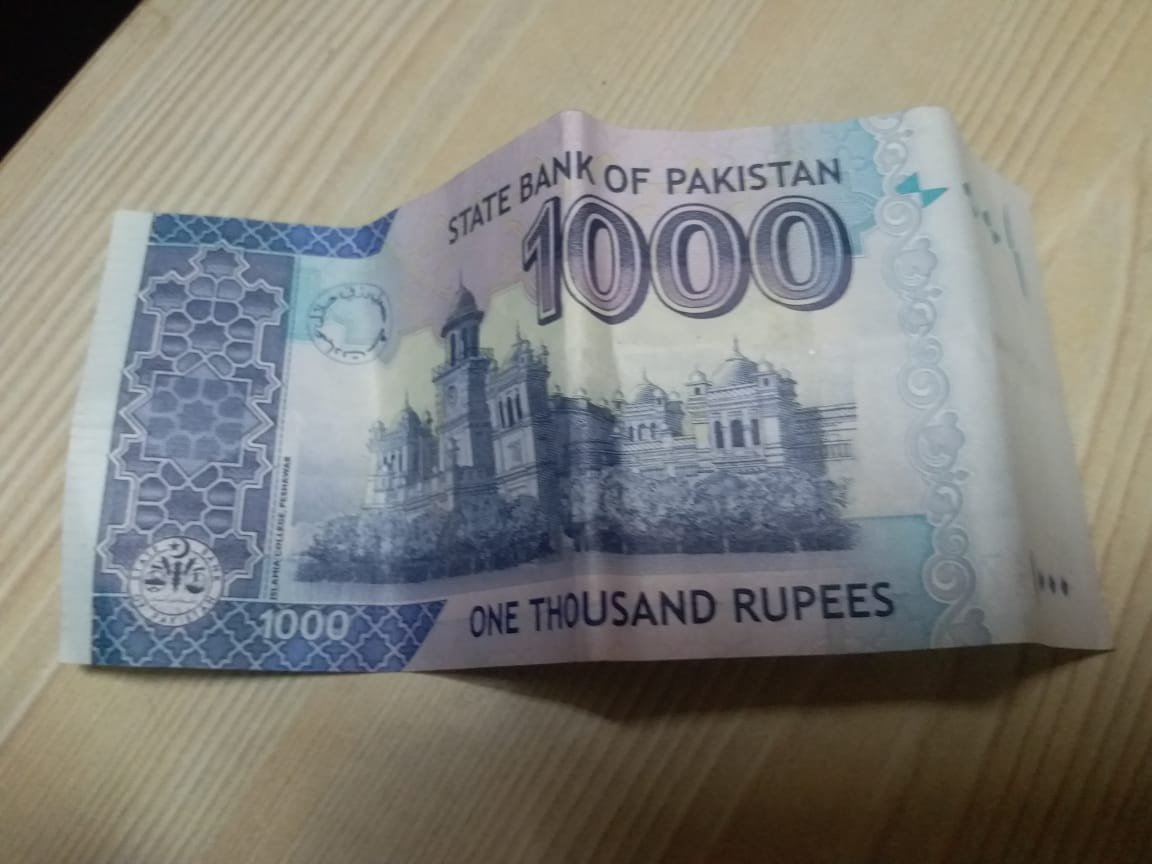1000 rupee: (58, 81, 1120, 743)
